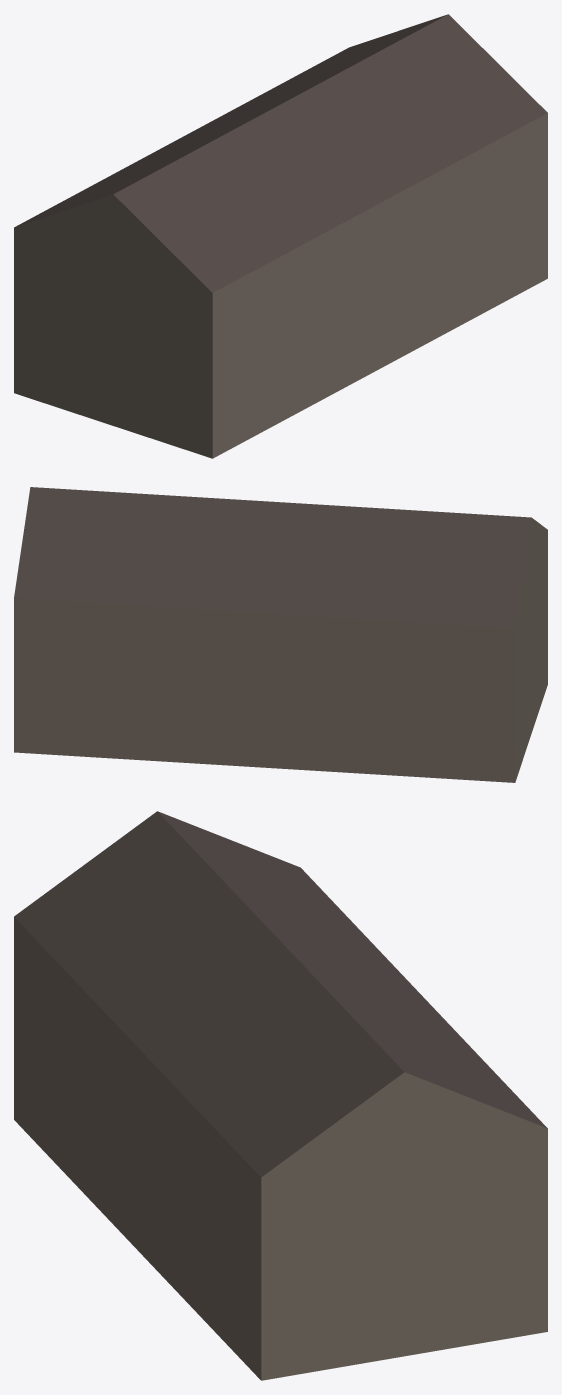
3 views of the same model, one above another, from view 1: azimuth 30°, elevation 25°; view 2: azimuth 150°, elevation 25°; view 3: azimuth 270°, elevation 25° (orthographic). The views are drawn at different scales.
Parts seen in each view (by area): view 1: HP-w859447946; view 2: HP-w859447946; view 3: HP-w859447946.
Part boxes in pixels (<box>): HP-w859447946: <box>14,14,547,458</box>; HP-w859447946: <box>14,487,547,782</box>; HP-w859447946: <box>14,811,547,1380</box>.
Size of the model in its own units: 29.44 by 12.58 by 21.43.
